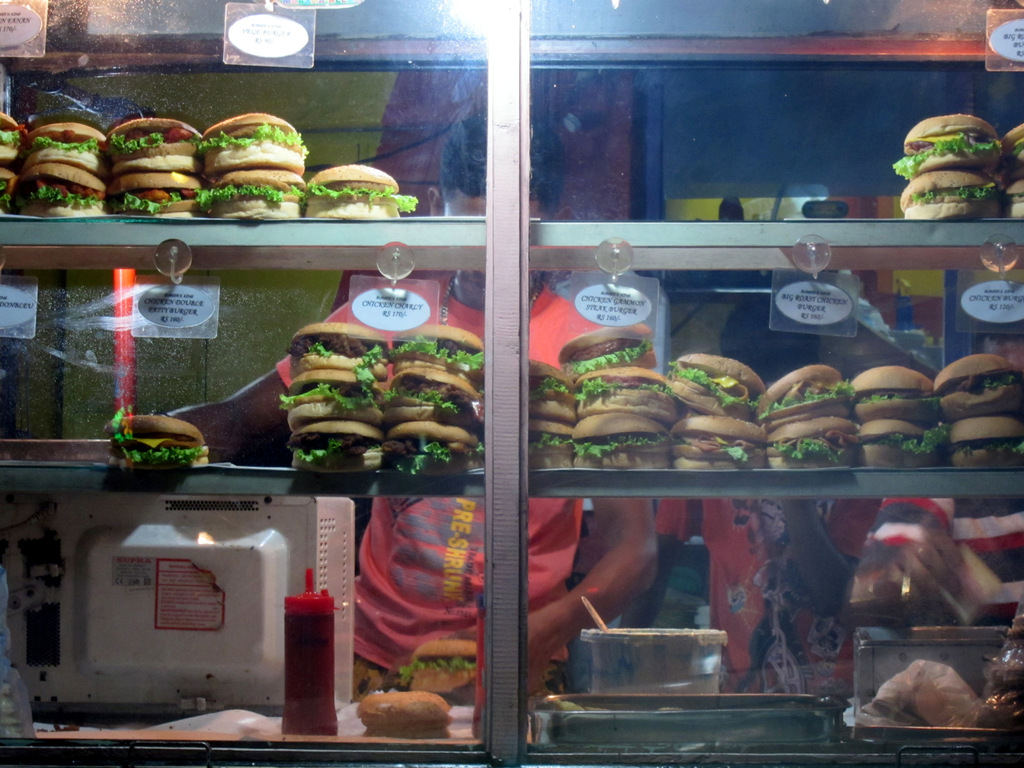Hamburger: (890, 110, 1008, 181), (270, 365, 385, 426), (196, 108, 302, 174), (573, 365, 685, 427), (304, 158, 421, 217), (288, 318, 386, 384), (101, 410, 212, 468), (389, 324, 484, 390), (757, 357, 849, 424), (757, 411, 865, 468), (677, 348, 762, 419), (935, 349, 1023, 417), (549, 330, 656, 382), (899, 163, 999, 218), (386, 373, 487, 427), (670, 412, 762, 471), (108, 170, 205, 225), (847, 418, 950, 468), (293, 416, 381, 474), (19, 164, 107, 221), (566, 414, 666, 464), (360, 687, 455, 739), (113, 123, 199, 177), (844, 368, 935, 418), (26, 119, 111, 172), (391, 423, 479, 474), (944, 412, 1023, 468), (213, 173, 307, 217), (510, 362, 582, 416), (407, 639, 475, 687), (529, 417, 577, 469), (995, 168, 1023, 218), (0, 165, 25, 214), (0, 108, 24, 158), (1002, 118, 1023, 174)
